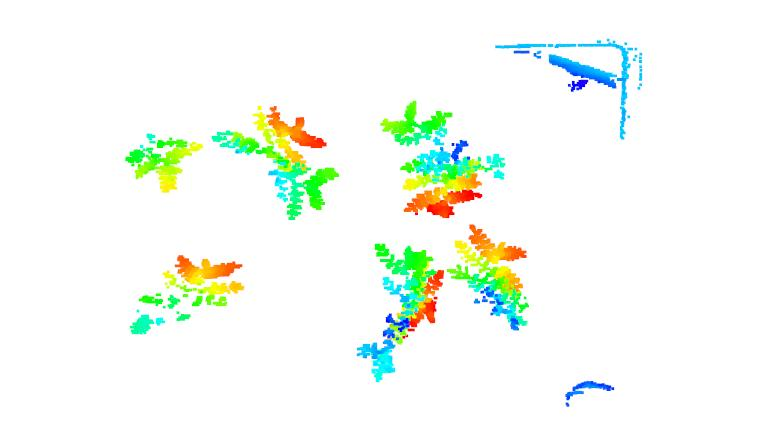chickpea: (378, 98, 510, 219), (208, 105, 342, 221), (354, 241, 448, 383), (126, 251, 245, 336), (449, 224, 533, 335), (124, 131, 204, 194)
